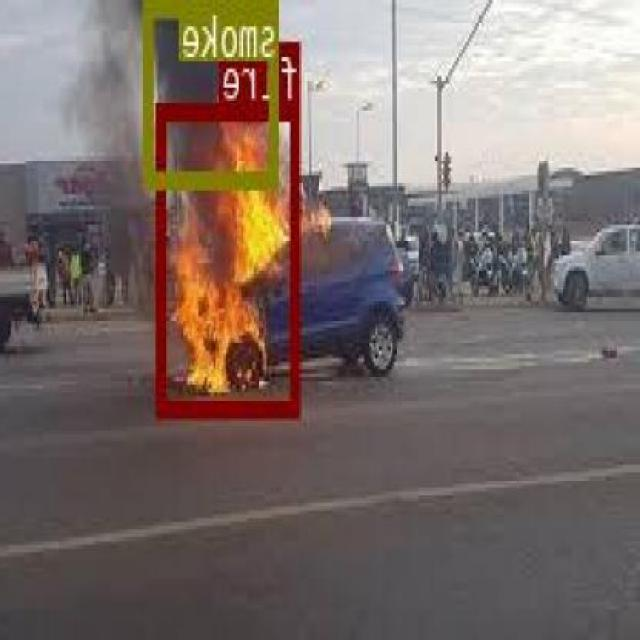Fire: (157, 99, 300, 415)
Smoke: (146, 0, 280, 183)
